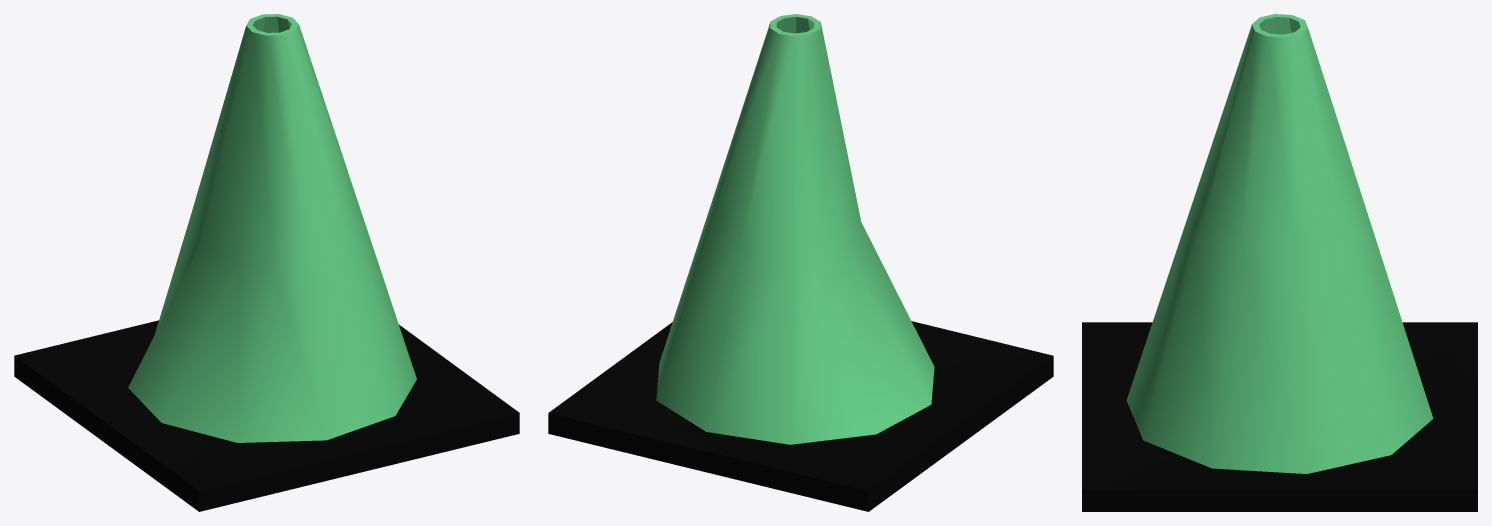
File: SM_plotroute.fbx
3 views of the same model, side by side, from view 1: azimuth 30°, elevation 25°; view 2: azimuth 150°, elevation 25°; view 3: azimuth 270°, elevation 25° (orthographic). The views are drawn at different scales.
Visible parts, largest first — view 1: SM_plotroute; view 2: SM_plotroute; view 3: SM_plotroute.
Part boxes in pixels (left/top/right/bottom): SM_plotroute: left=14, top=14, right=519, bottom=511; SM_plotroute: left=548, top=14, right=1053, bottom=511; SM_plotroute: left=1082, top=14, right=1477, bottom=511.
Size of the model in its own units: 427 by 483 by 427.
